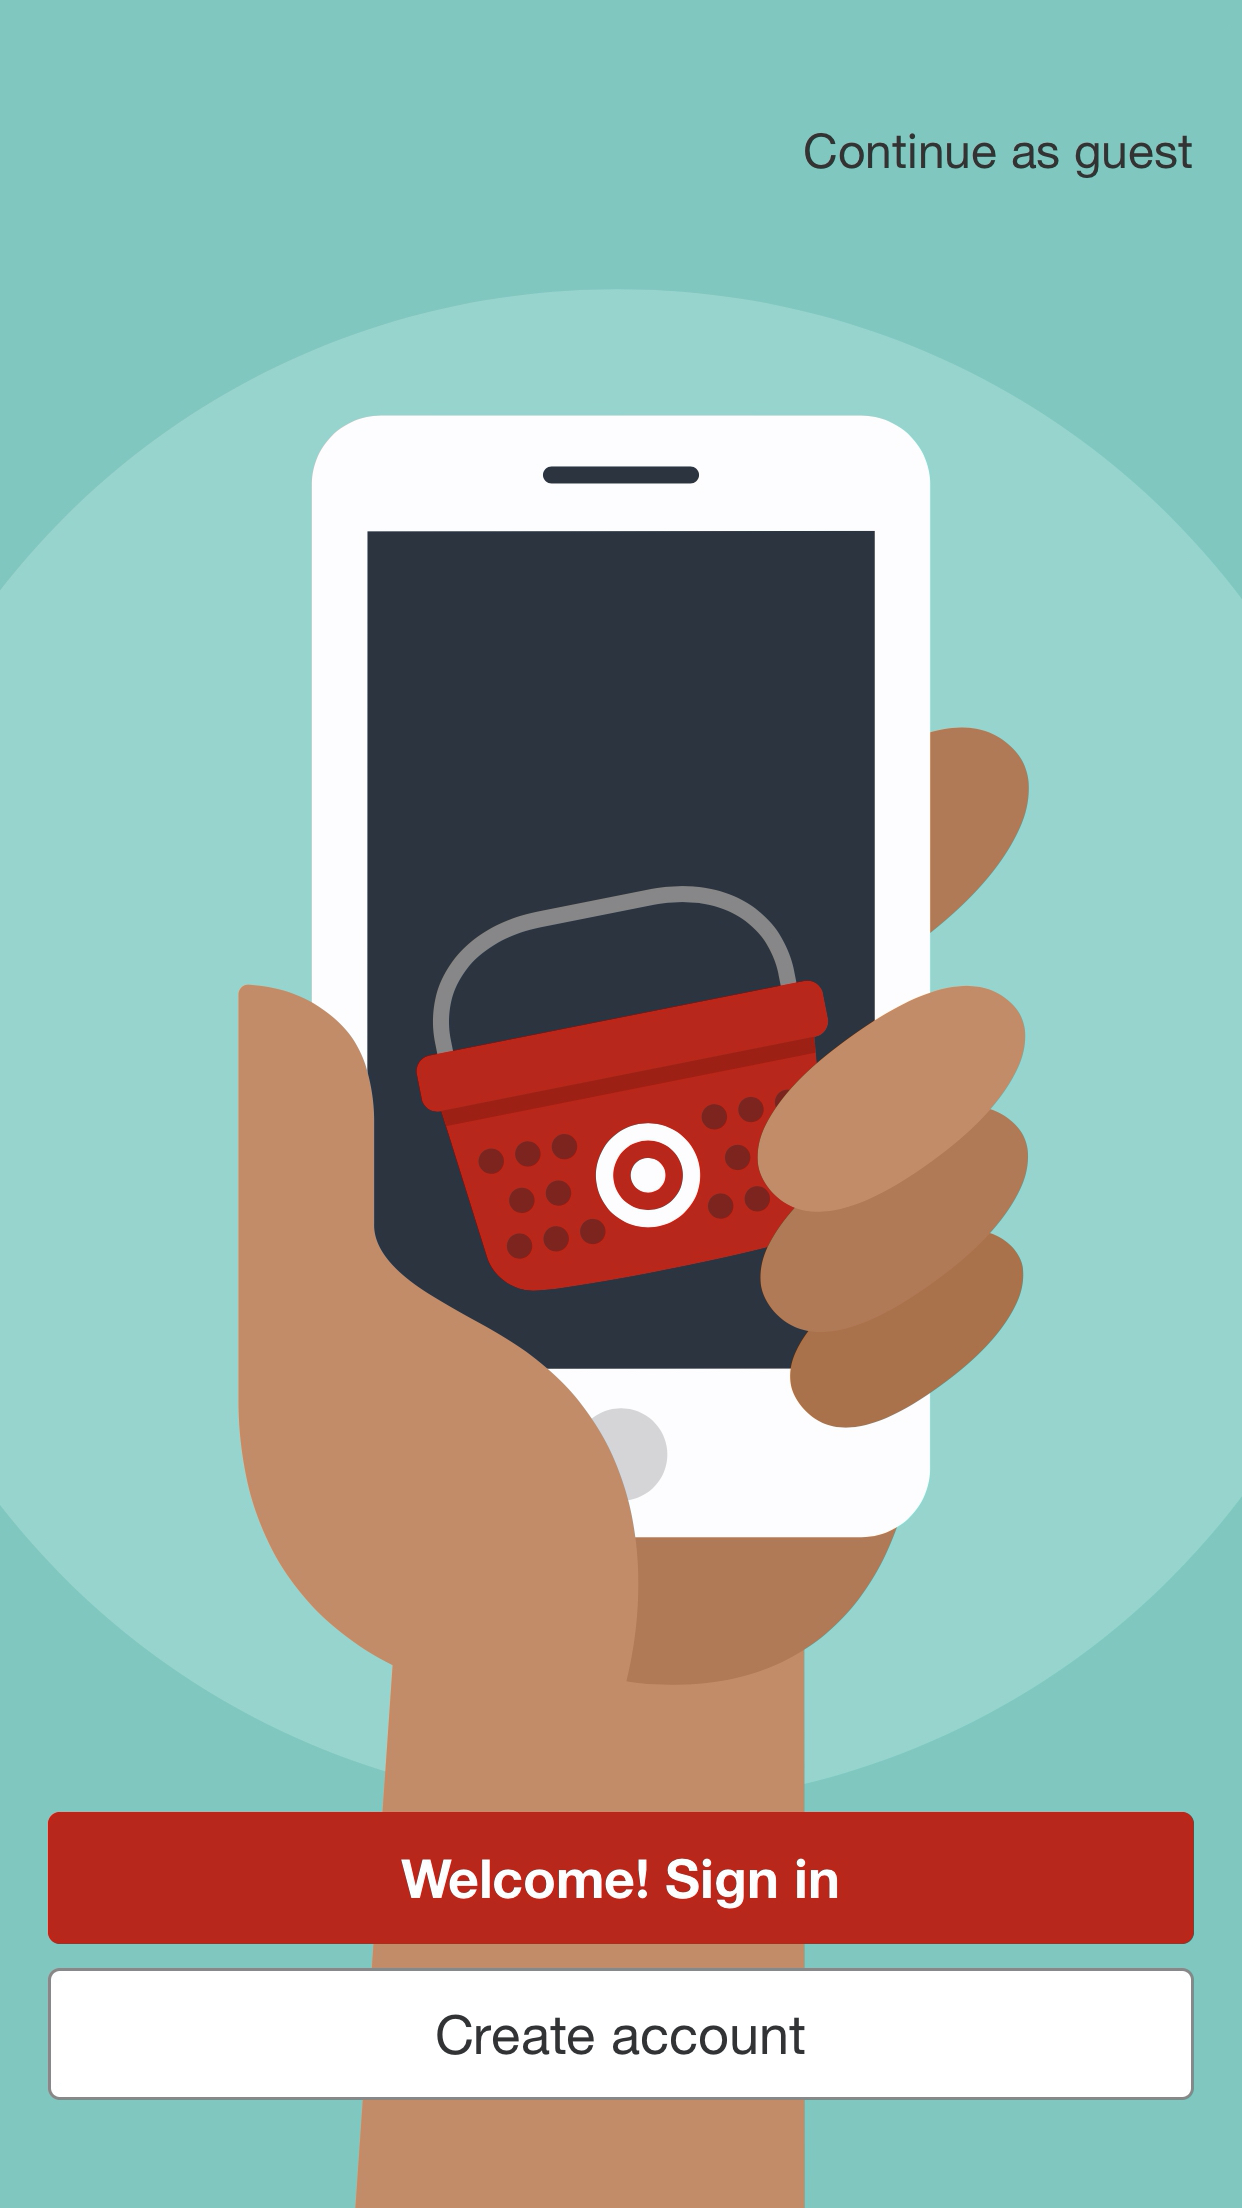BackgroundImage: (3, 5, 1242, 2208)
Text: (805, 133, 1192, 179)
TextButton: (49, 1967, 1193, 2100), (49, 1811, 1193, 1944)
